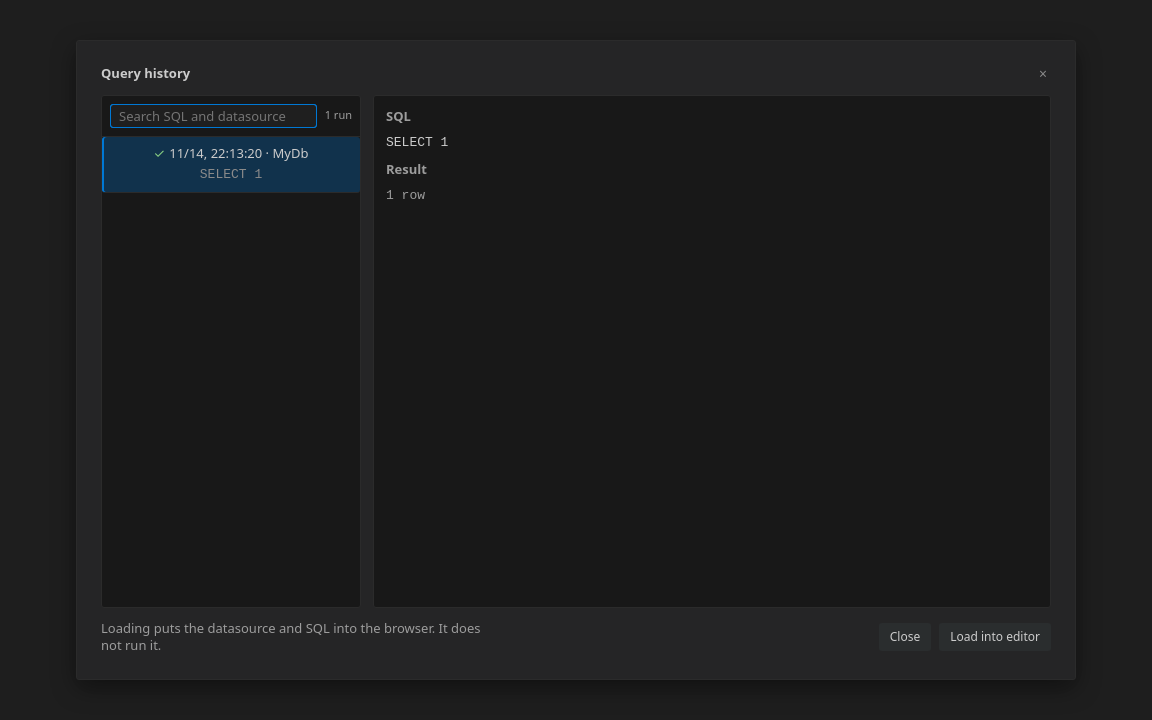
Scenario: QueryHistoryDialog › says the search found nothing, rather than looking empty
Check: the text "SELECT 1" below "1 run" is shown, box x1=200 y1=167 x2=262 y2=182
Type "zzz" into the search field named "Search the query history".
click(213, 116); type("zzz")  # box x1=110 y1=104 x2=317 y2=128
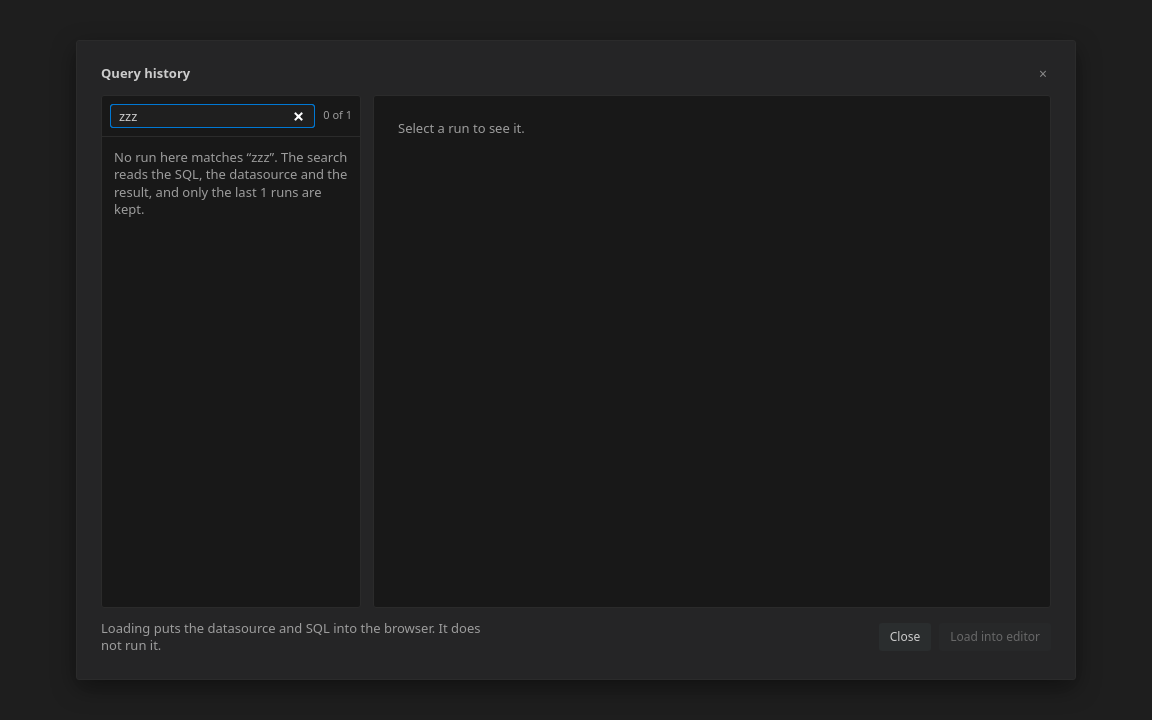
Check: the text "No run here matches" is shown, box x1=114 y1=148 x2=251 y2=166
